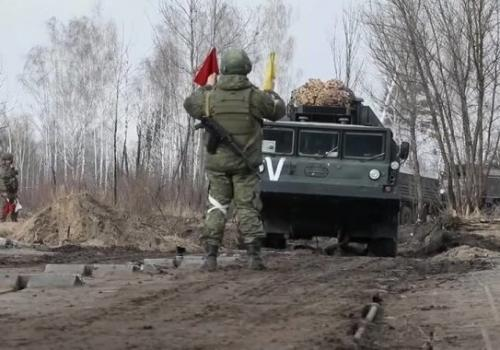person: (182, 51, 286, 270), (0, 155, 18, 224)
rszo: (264, 84, 396, 244)
truck: (436, 156, 500, 223), (393, 168, 440, 228)
